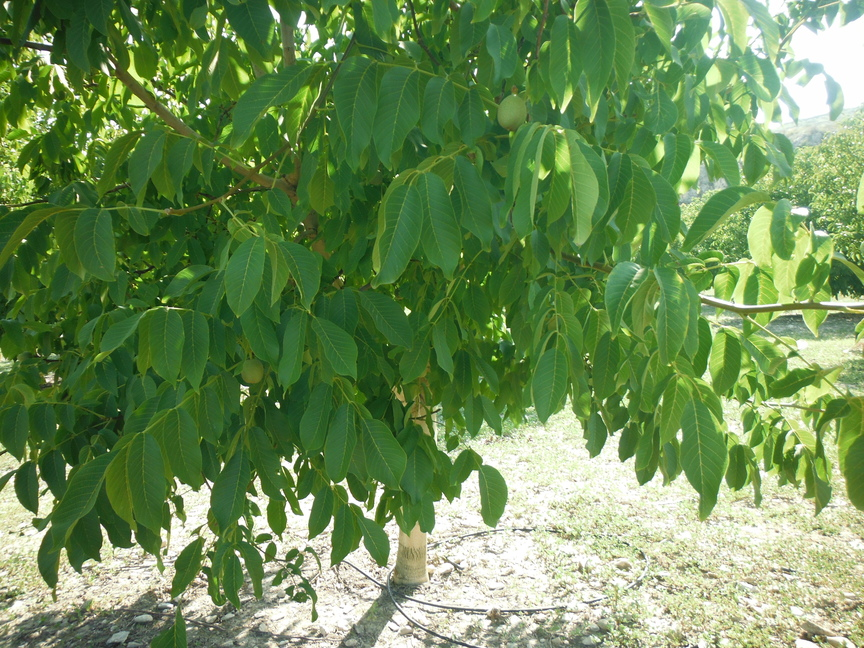walnut: (490, 80, 538, 140), (234, 351, 271, 388)
